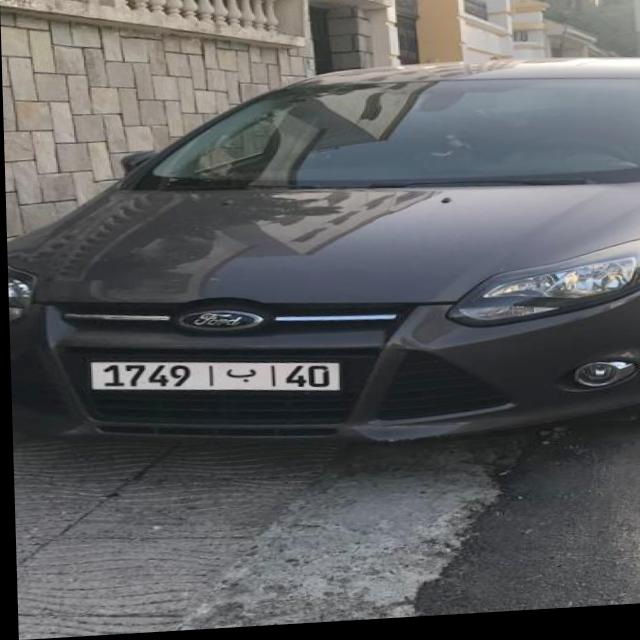License-Plate: (89, 364, 338, 394)
